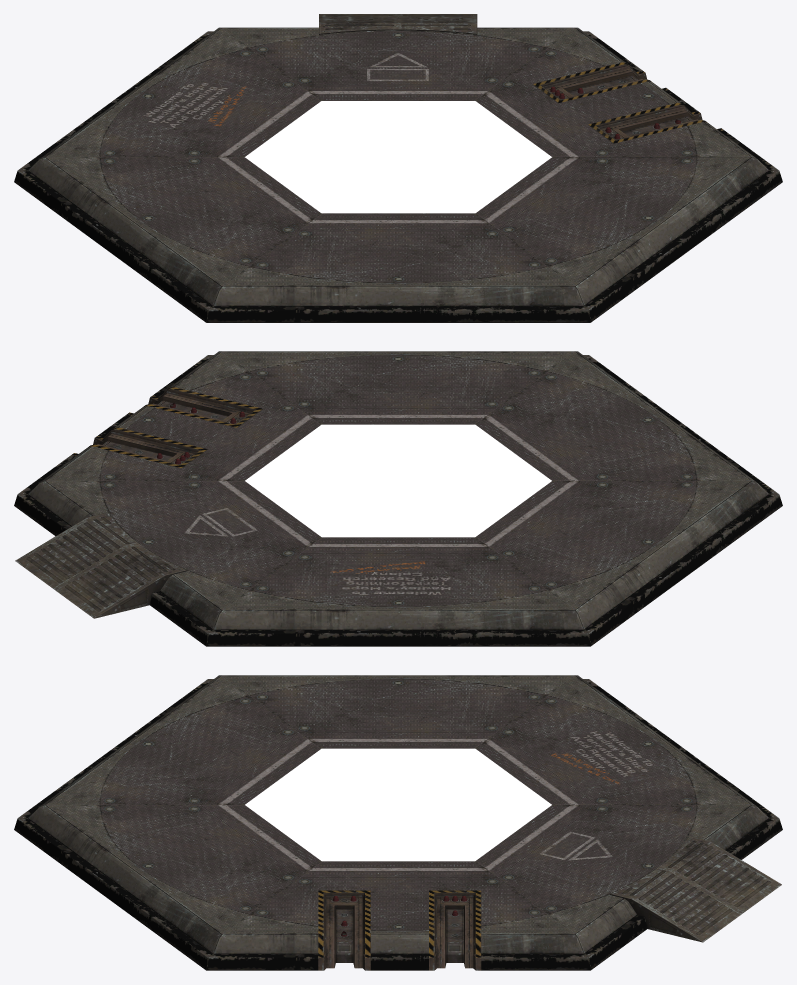
File: salvage-bay.glb
3 renders of one model, top to bottom at view 1: azimuth 30°, elevation 25°; view 2: azimuth 150°, elevation 25°; view 3: azimuth 270°, elevation 25°, orthographic.
Parts seen in each view (by area): view 1: Object_2, Plane; view 2: Object_2, Plane; view 3: Object_2, Plane.
Part boxes in pixels (left/top/right/bottom): Object_2: left=14, top=14, right=782, bottom=322; Plane: left=245, top=101, right=551, bottom=213; Object_2: left=14, top=351, right=782, bottom=646; Plane: left=245, top=424, right=551, bottom=537; Object_2: left=14, top=675, right=782, bottom=970; Plane: left=245, top=748, right=551, bottom=861.
Size of the model in its own units: 56.99 by 2.44 by 65.81.
Materials: 2 (1 with a texture image).
